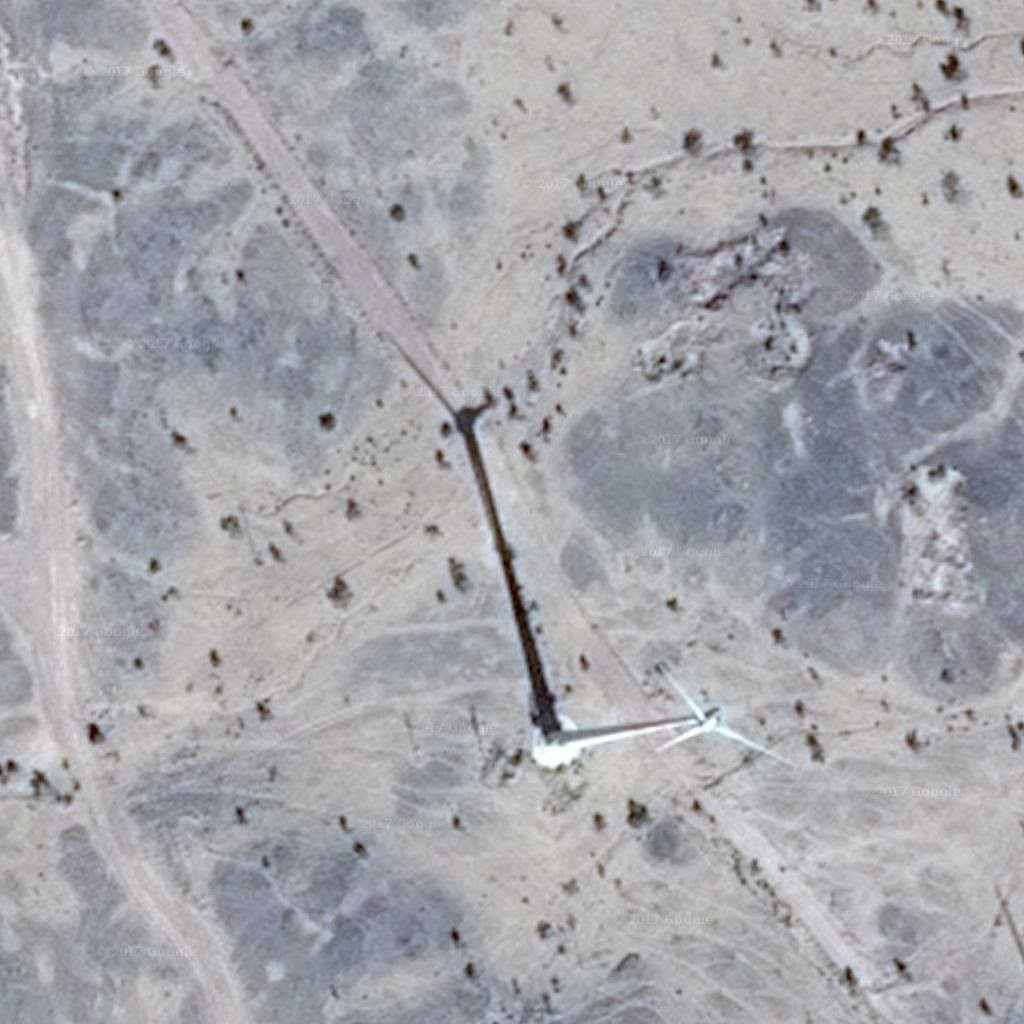Windmill: (386, 327, 570, 709)
